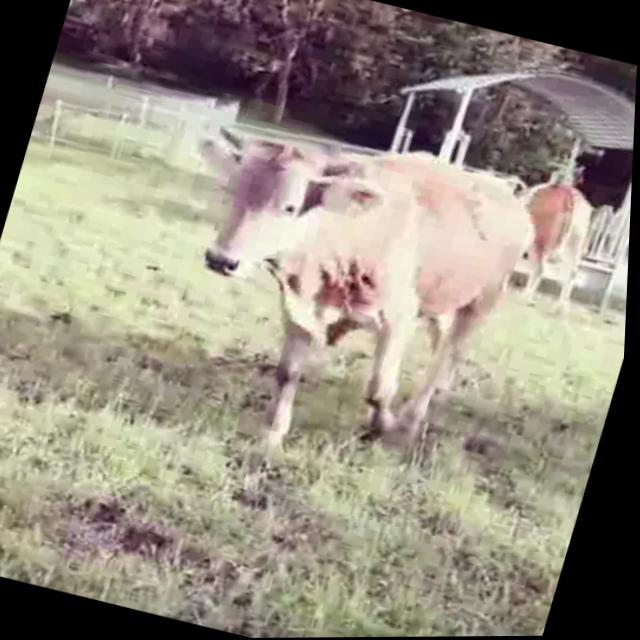cowFace: (151, 105, 395, 314)
